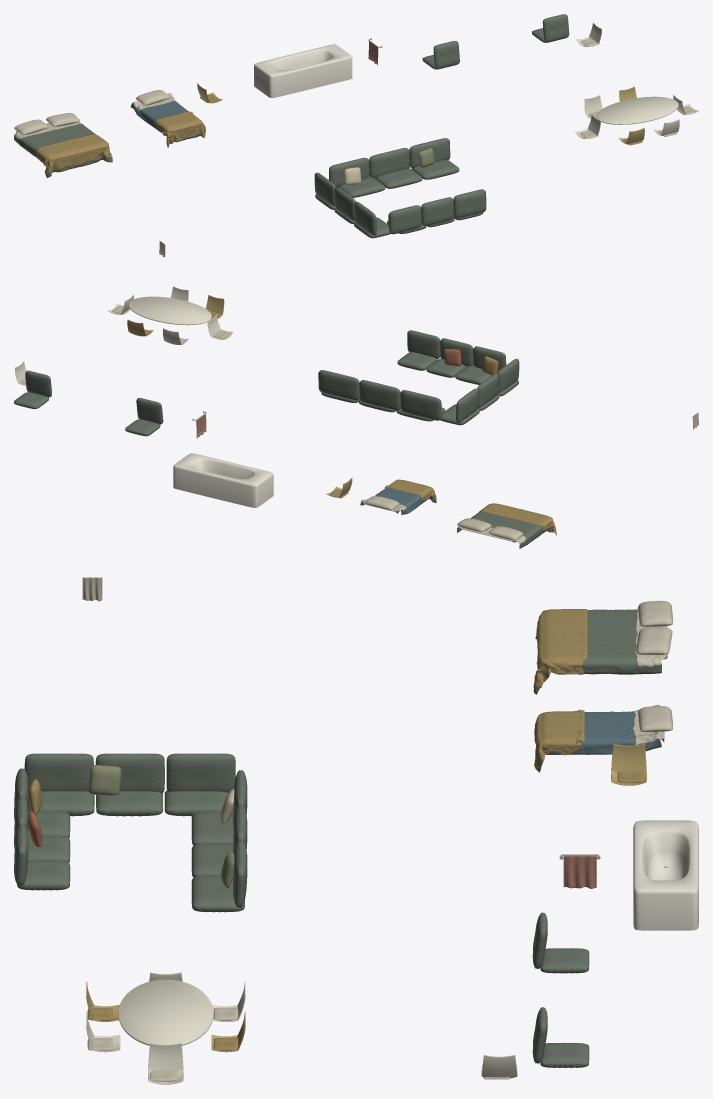
The model's file is interior-craft.glb.
The picture shows the model from 3 angles, top to bottom: view 1: azimuth 30°, elevation 25°; view 2: azimuth 150°, elevation 25°; view 3: azimuth 270°, elevation 25°; orthographic projection. The views are drawn at different scales.
Visible parts, largest first — view 1: West replacement seat 0, Continuous cast porcelain bathtub, Slumped scatter cushion 2, Continuous molded shell 1, Slumped scatter cushion 0, Child gravity draped cotton coverlet, Continuous molded shell 0; view 2: West replacement seat 0, Continuous cast porcelain bathtub, Continuous molded shell 1, Slumped scatter cushion 2, Slumped scatter cushion 0, Continuous molded shell 0, Child gravity draped cotton coverlet; view 3: West replacement seat 0, Continuous molded shell 1, Continuous cast porcelain bathtub, Slumped scatter cushion 2, Slumped scatter cushion 0, Child gravity draped cotton coverlet, Continuous molded shell 0, Slumped scatter cushion 1, Bath slumped coral hand towel.
Boxes of the visible parts, x1,y1,x2,y2 form: West replacement seat 0: (14, 14, 569, 238); Continuous cast porcelain bathtub: (254, 44, 352, 97); Slumped scatter cushion 2: (35, 94, 642, 226); Continuous molded shell 1: (575, 22, 698, 138); Slumped scatter cushion 0: (14, 38, 695, 257); Child gravity draped cotton coverlet: (130, 98, 204, 147); Continuous molded shell 0: (197, 83, 644, 144); West replacement seat 0: (14, 330, 556, 548); Continuous cast porcelain bathtub: (173, 453, 273, 507); Continuous molded shell 1: (15, 286, 233, 385); Slumped scatter cushion 2: (131, 311, 556, 533); Slumped scatter cushion 0: (20, 305, 698, 543); Continuous molded shell 0: (127, 295, 352, 497); Child gravity draped cotton coverlet: (360, 487, 436, 514); West replacement seat 0: (14, 609, 667, 1067); Continuous molded shell 1: (86, 972, 517, 1084); Continuous cast porcelain bathtub: (633, 820, 698, 930); Slumped scatter cushion 2: (28, 609, 645, 1050); Slumped scatter cushion 0: (82, 577, 673, 1081); Child gravity draped cotton coverlet: (535, 711, 664, 772); Continuous molded shell 0: (86, 744, 646, 1052); Slumped scatter cushion 1: (88, 765, 234, 888); Bath slumped coral hand towel: (563, 856, 596, 888).
Bounding box in the file's own units: 16.19 × 1.29 × 9.79.
Materials: 11 (7 with a texture image).
